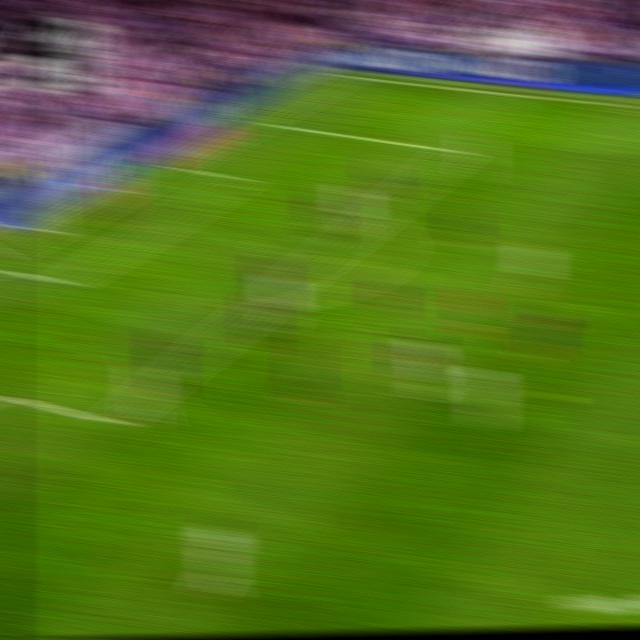bigarea_bottom_inner: (99, 408, 127, 436)
bigarea_top_inner: (445, 141, 471, 161)
bigarea_top_outter: (244, 113, 269, 127)
corner: (328, 69, 352, 79)
smallarea_top_inner: (226, 170, 250, 187)
top_arc_area_intersection: (367, 205, 393, 223)
